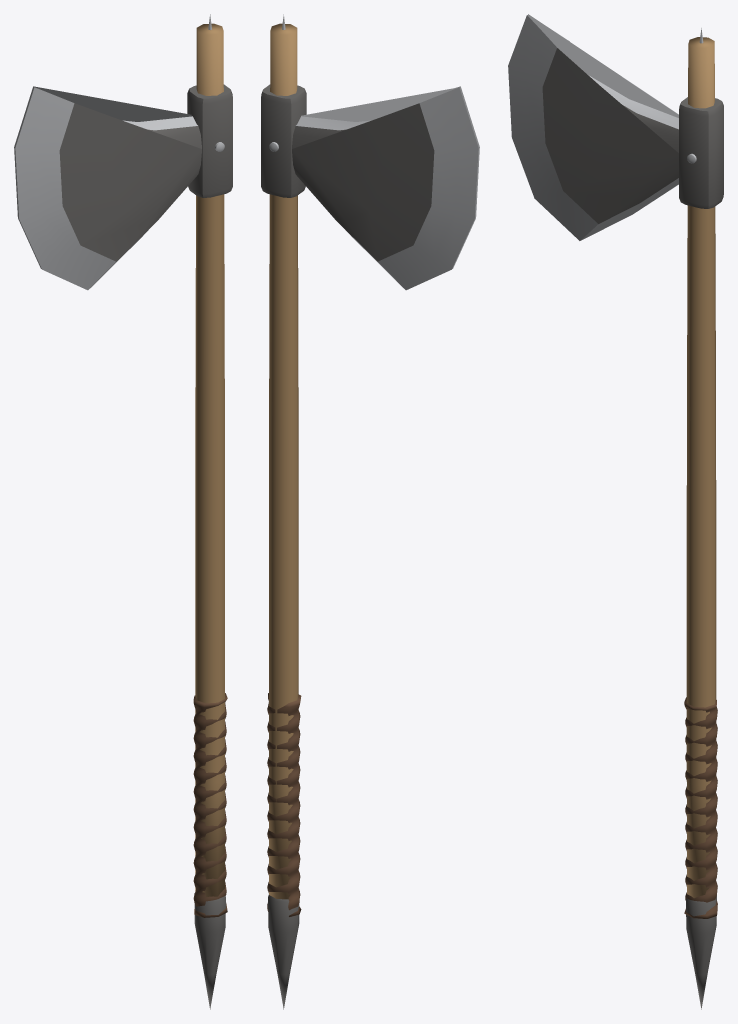
Rendered from gandasa.glb.
3 renders of one model, left to right at view 1: azimuth 30°, elevation 25°; view 2: azimuth 150°, elevation 25°; view 3: azimuth 330°, elevation 25°, orthographic.
Parts seen in each view (by area): view 1: gandasa; view 2: gandasa; view 3: gandasa.
Part boxes in pixels (x1,y1,x2,y2): gandasa: [14, 14, 232, 1009]; gandasa: [261, 14, 479, 1009]; gandasa: [508, 14, 723, 1009].
Bounding box in the file's own units: 0.5851 × 2.61 × 0.1082.
